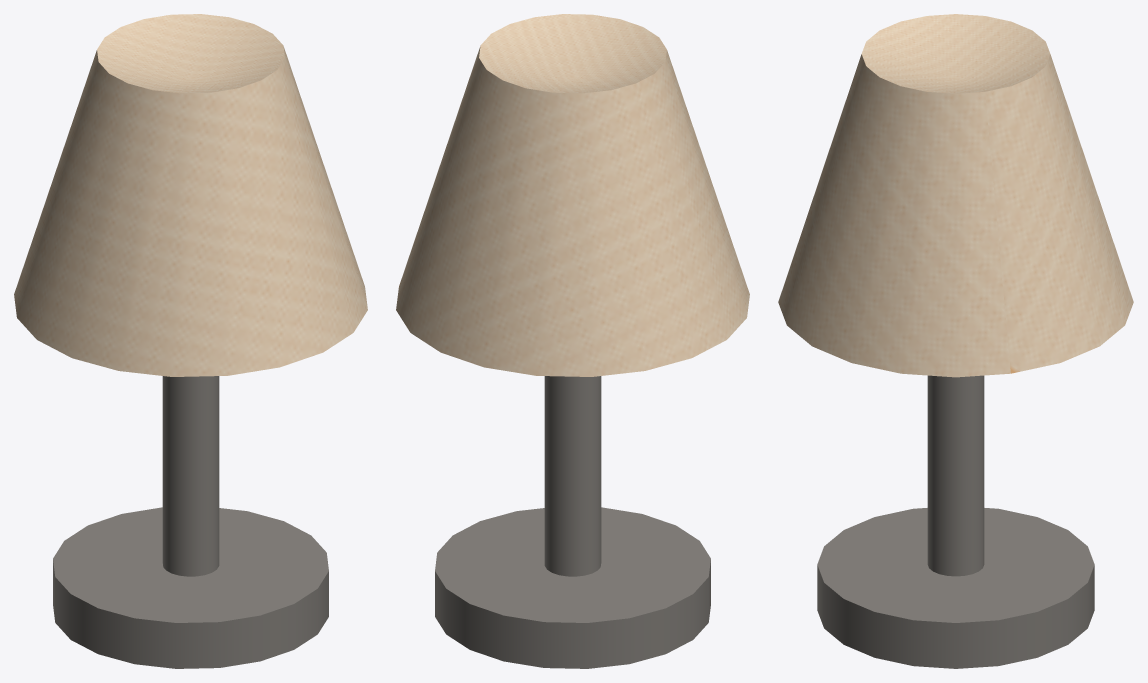
Rendered from Small Lamp.fbx.
The picture shows the model from 3 angles, left to right: view 1: azimuth 30°, elevation 25°; view 2: azimuth 150°, elevation 25°; view 3: azimuth 270°, elevation 25°; orthographic projection.
Parts seen in each view (by area): view 1: pCylinder11; view 2: pCylinder11; view 3: pCylinder11.
Part boxes in pixels (x1=…): pCylinder11: x1=14, y1=14, x2=367, y2=668; pCylinder11: x1=396, y1=14, x2=749, y2=668; pCylinder11: x1=778, y1=14, x2=1133, y2=668.
Size of the model in its own units: 2.83 by 4.89 by 2.83.
